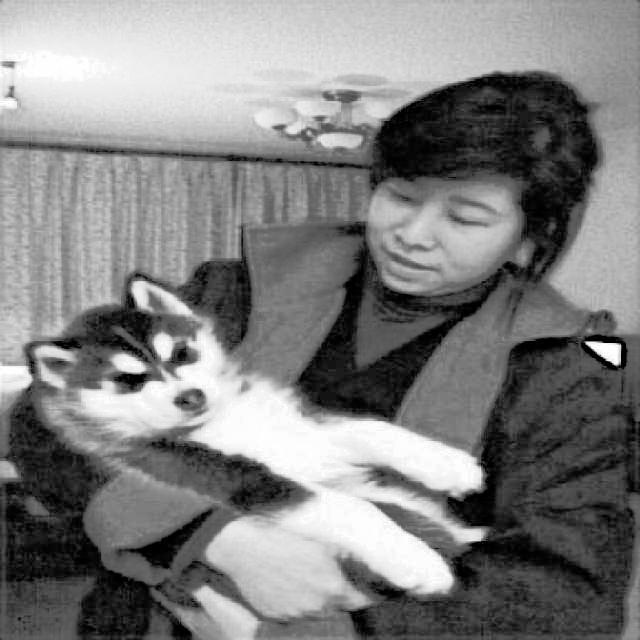Dog: (18, 67, 639, 640), (17, 268, 488, 596)
